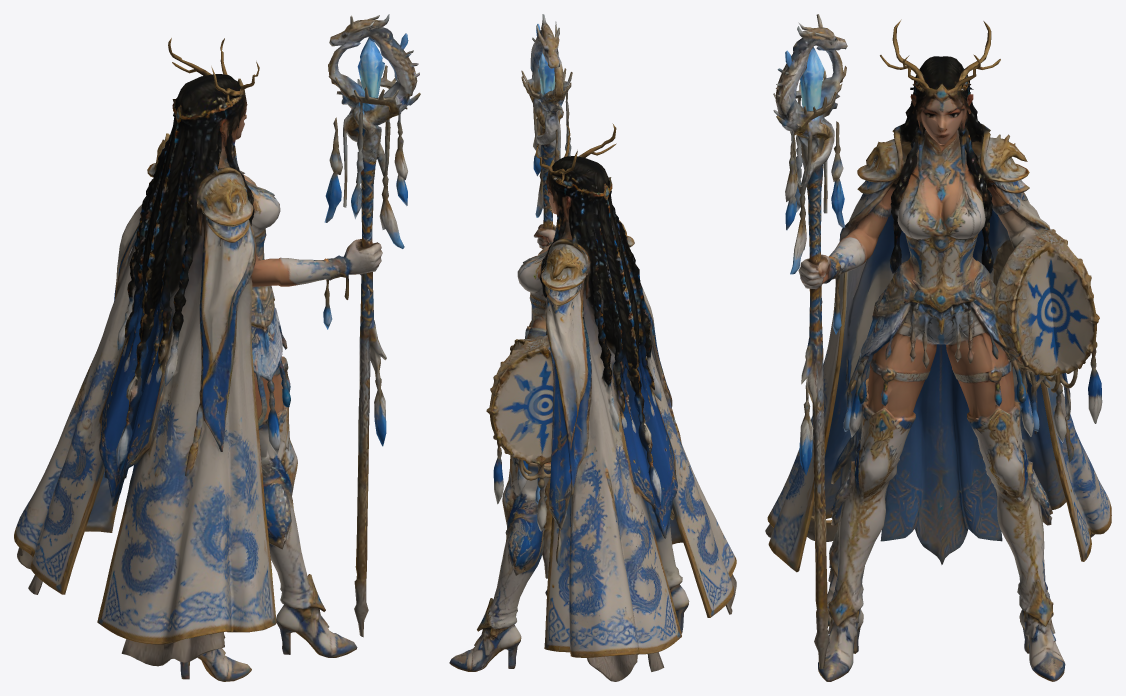
The model's file is drumcaller2_T9-tripo.glb.
3 renders of one model, left to right at view 1: azimuth 30°, elevation 25°; view 2: azimuth 150°, elevation 25°; view 3: azimuth 270°, elevation 25°, orthographic. The views are drawn at different scales.
Visible parts, largest first — view 1: tripo_node_1dcef3a2-f8de-47c9-9d61-b9e82ac2abc6; view 2: tripo_node_1dcef3a2-f8de-47c9-9d61-b9e82ac2abc6; view 3: tripo_node_1dcef3a2-f8de-47c9-9d61-b9e82ac2abc6.
Boxes of the visible parts, box(x1,y1,x2,y2) form: tripo_node_1dcef3a2-f8de-47c9-9d61-b9e82ac2abc6: box(14, 14, 420, 681); tripo_node_1dcef3a2-f8de-47c9-9d61-b9e82ac2abc6: box(449, 14, 736, 681); tripo_node_1dcef3a2-f8de-47c9-9d61-b9e82ac2abc6: box(765, 14, 1111, 681).
Bounding box in the file's own units: 0.4405 × 1 × 0.4721.
1 material, 1 textured.
